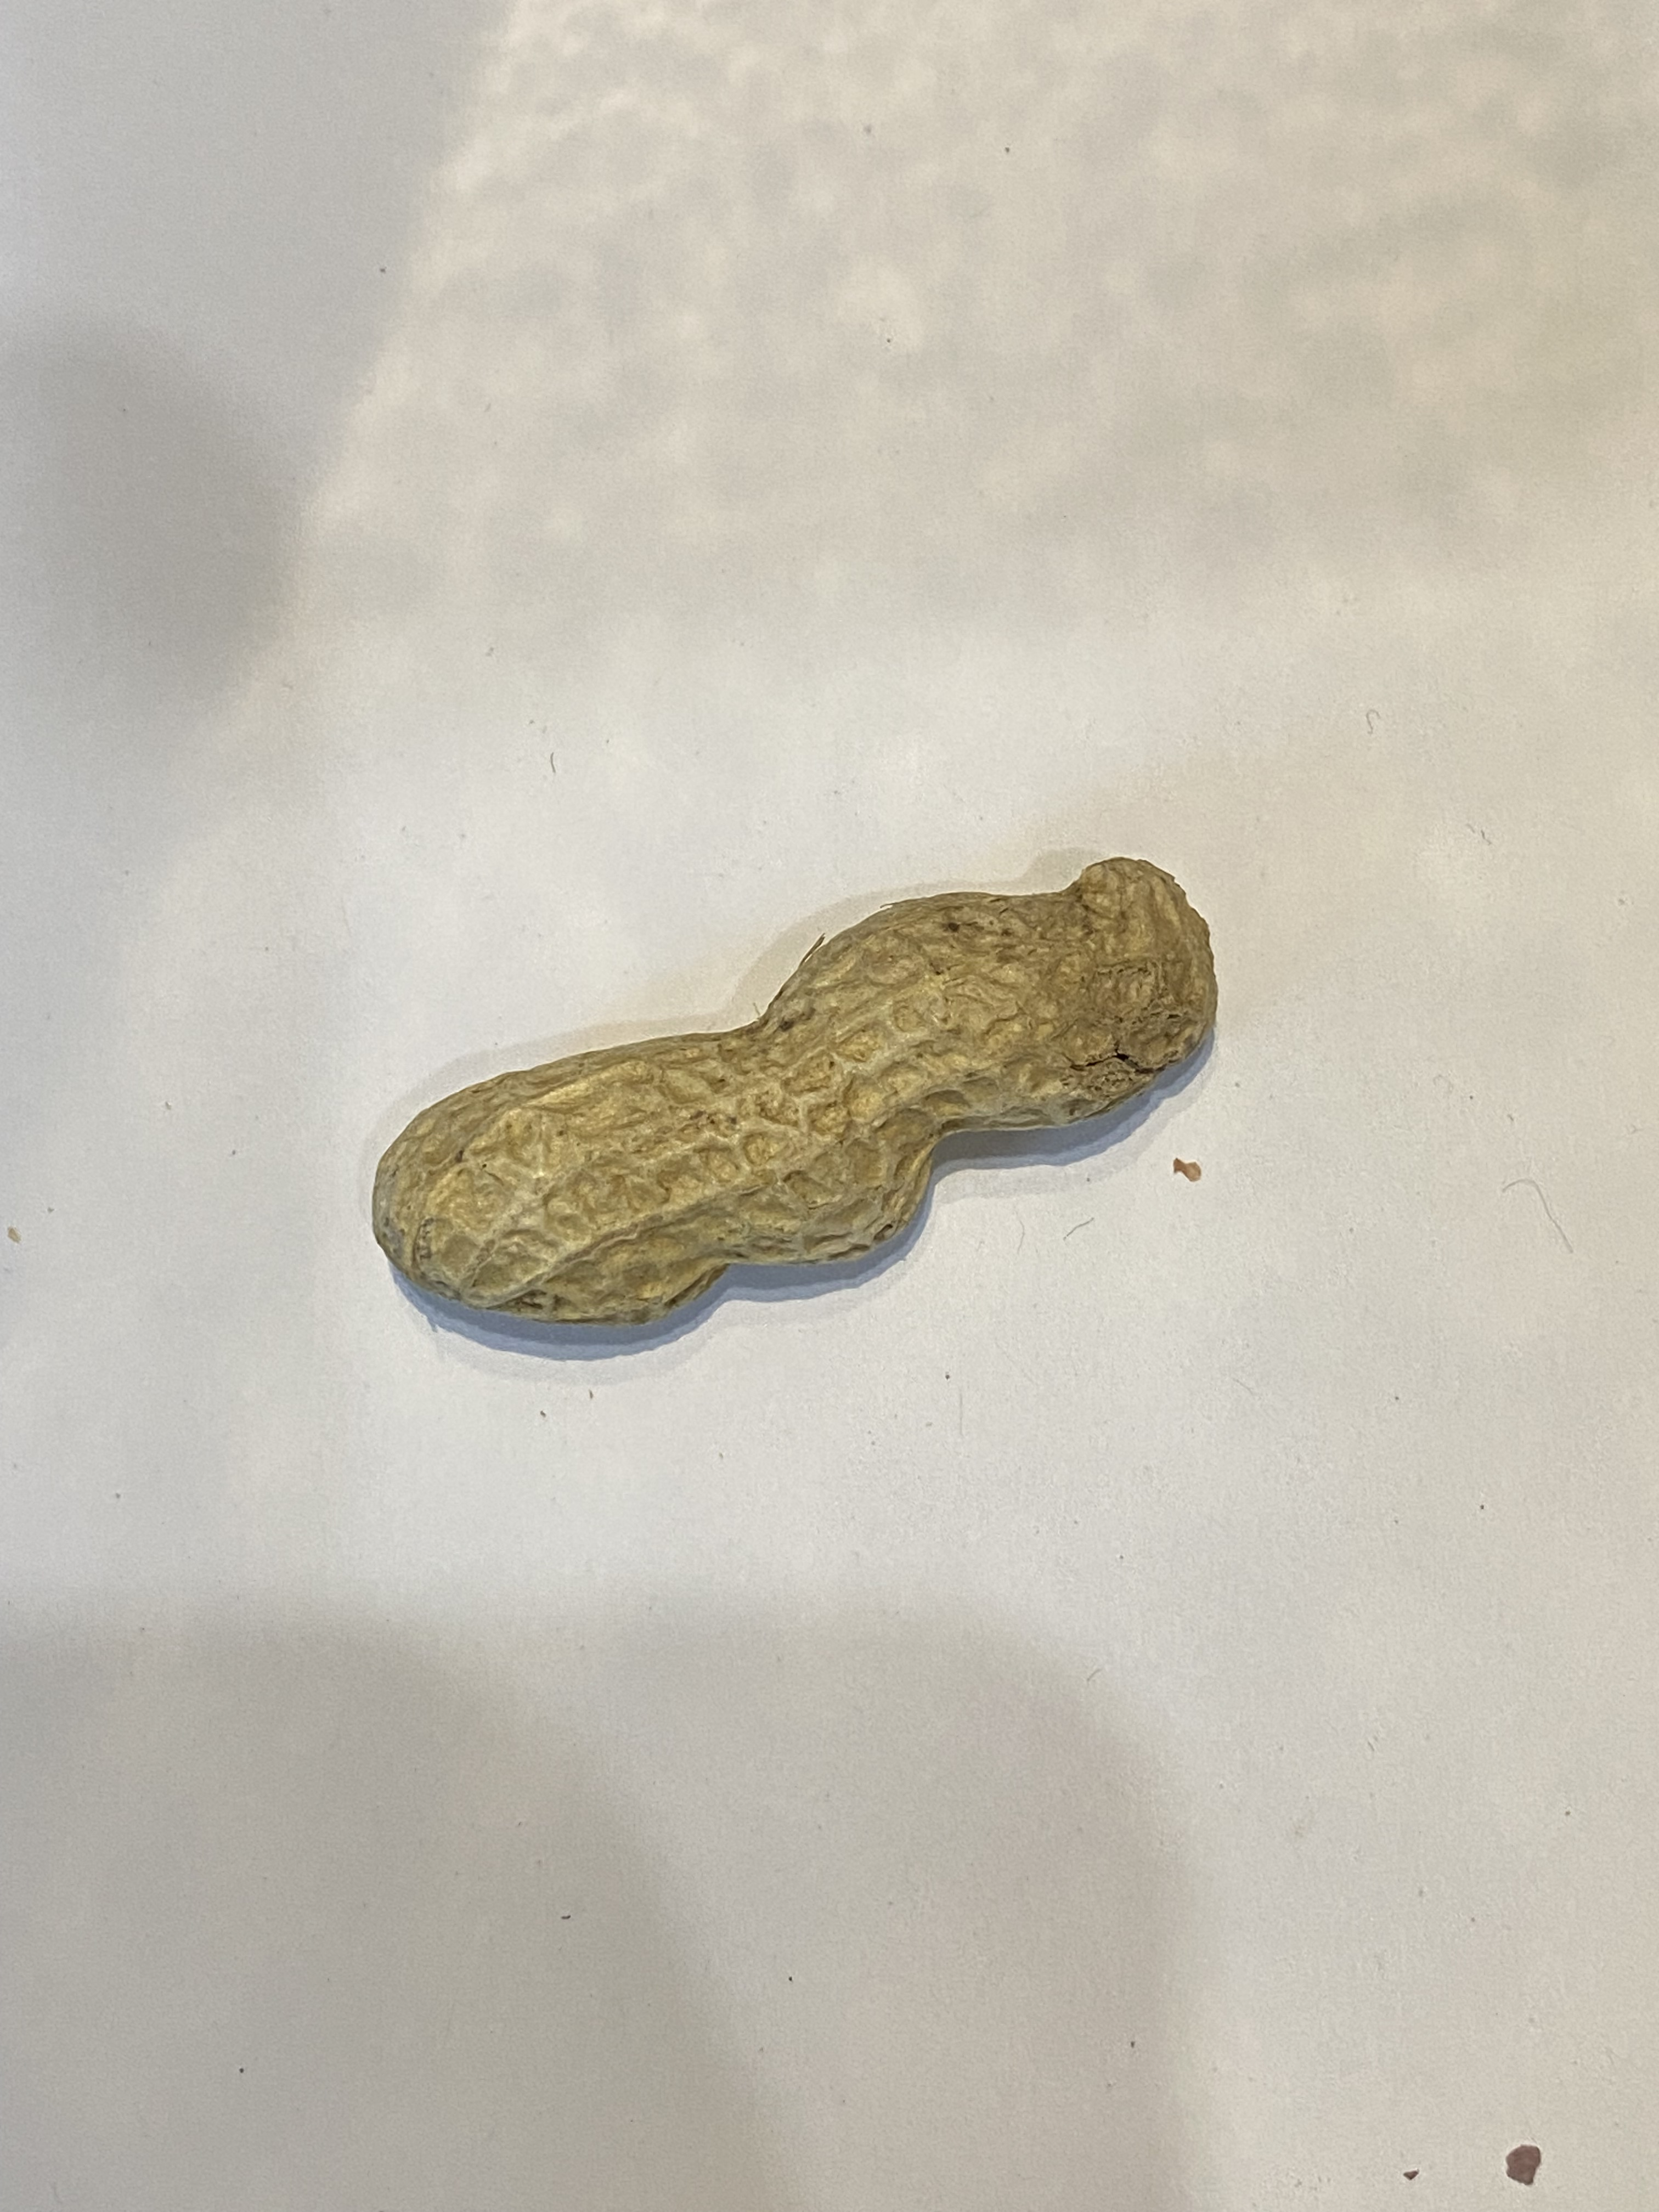kacang3: (354, 812, 1246, 1343)
